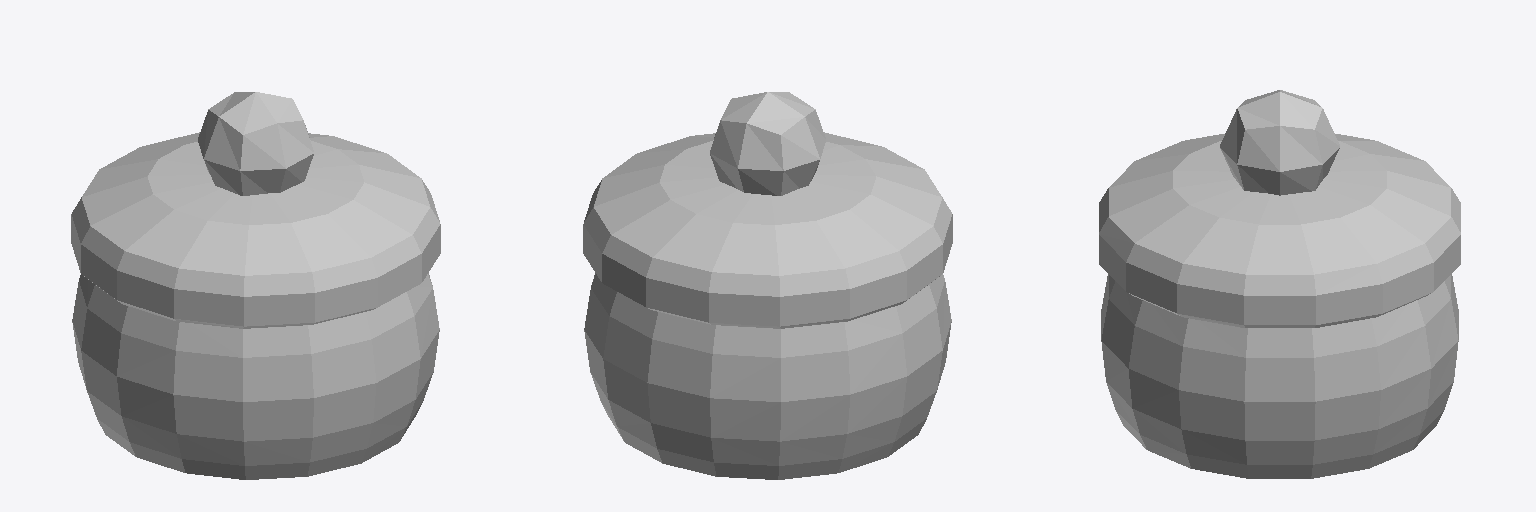
Rendered from container_kitchen_B_red.obj.
The picture shows the model from 3 angles: view 1: azimuth 30°, elevation 25°; view 2: azimuth 150°, elevation 25°; view 3: azimuth 270°, elevation 25°; orthographic projection.
Parts seen in each view (by area): view 1: container_kitchen_B_red; view 2: container_kitchen_B_red; view 3: container_kitchen_B_red.
Boxes of the visible parts, <box> form: container_kitchen_B_red: <box>71,92,440,479</box>; container_kitchen_B_red: <box>583,92,952,479</box>; container_kitchen_B_red: <box>1099,90,1460,478</box>.
Bounding box in the file's own units: 0.4 × 0.3995 × 0.4.